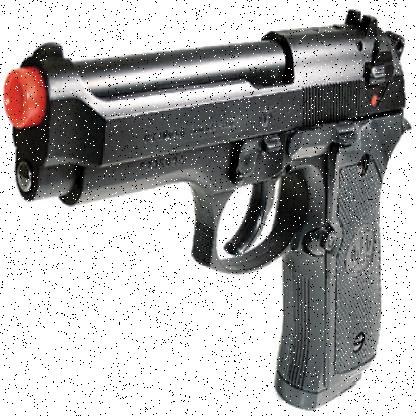pistol: (9, 14, 403, 402)
